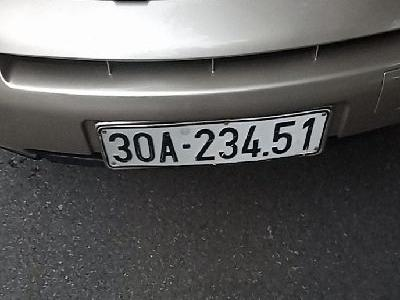lisence: (93, 107, 331, 172)
